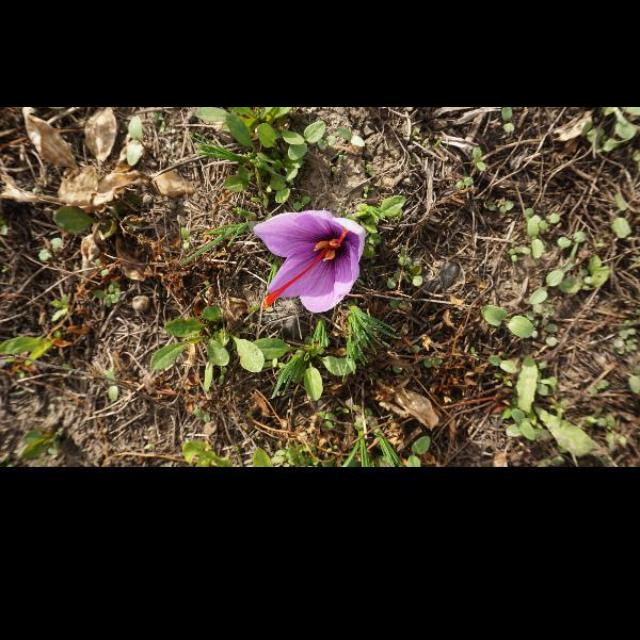flower: (252, 210, 366, 314)
